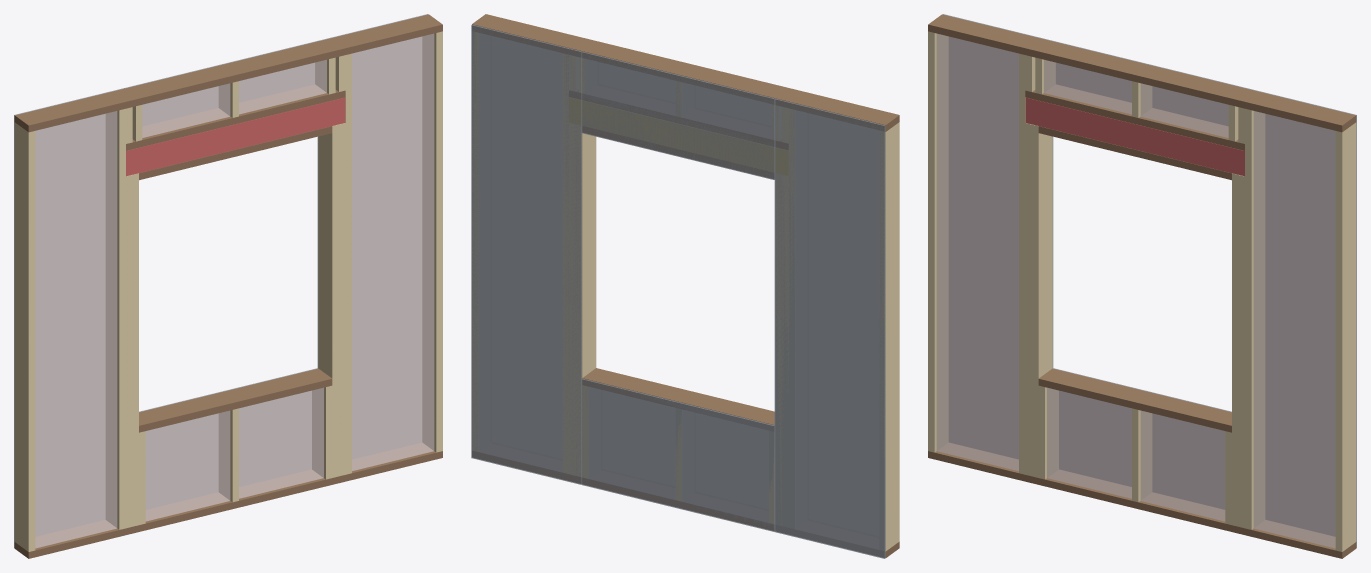
3 views of the same model, side by side, from view 1: azimuth 30°, elevation 25°; view 2: azimuth 150°, elevation 25°; view 3: azimuth 330°, elevation 25° (orthographic).
Visible parts, largest first — view 1: EX2 FF; view 2: EX2 FF; view 3: EX2 FF.
Part boxes in pixels (x1,y1,x2,y2): EX2 FF: (14,14,442,558); EX2 FF: (471,14,899,558); EX2 FF: (928,14,1356,558).
Size of the model in its own units: 2.4 by 2.4 by 0.149.
